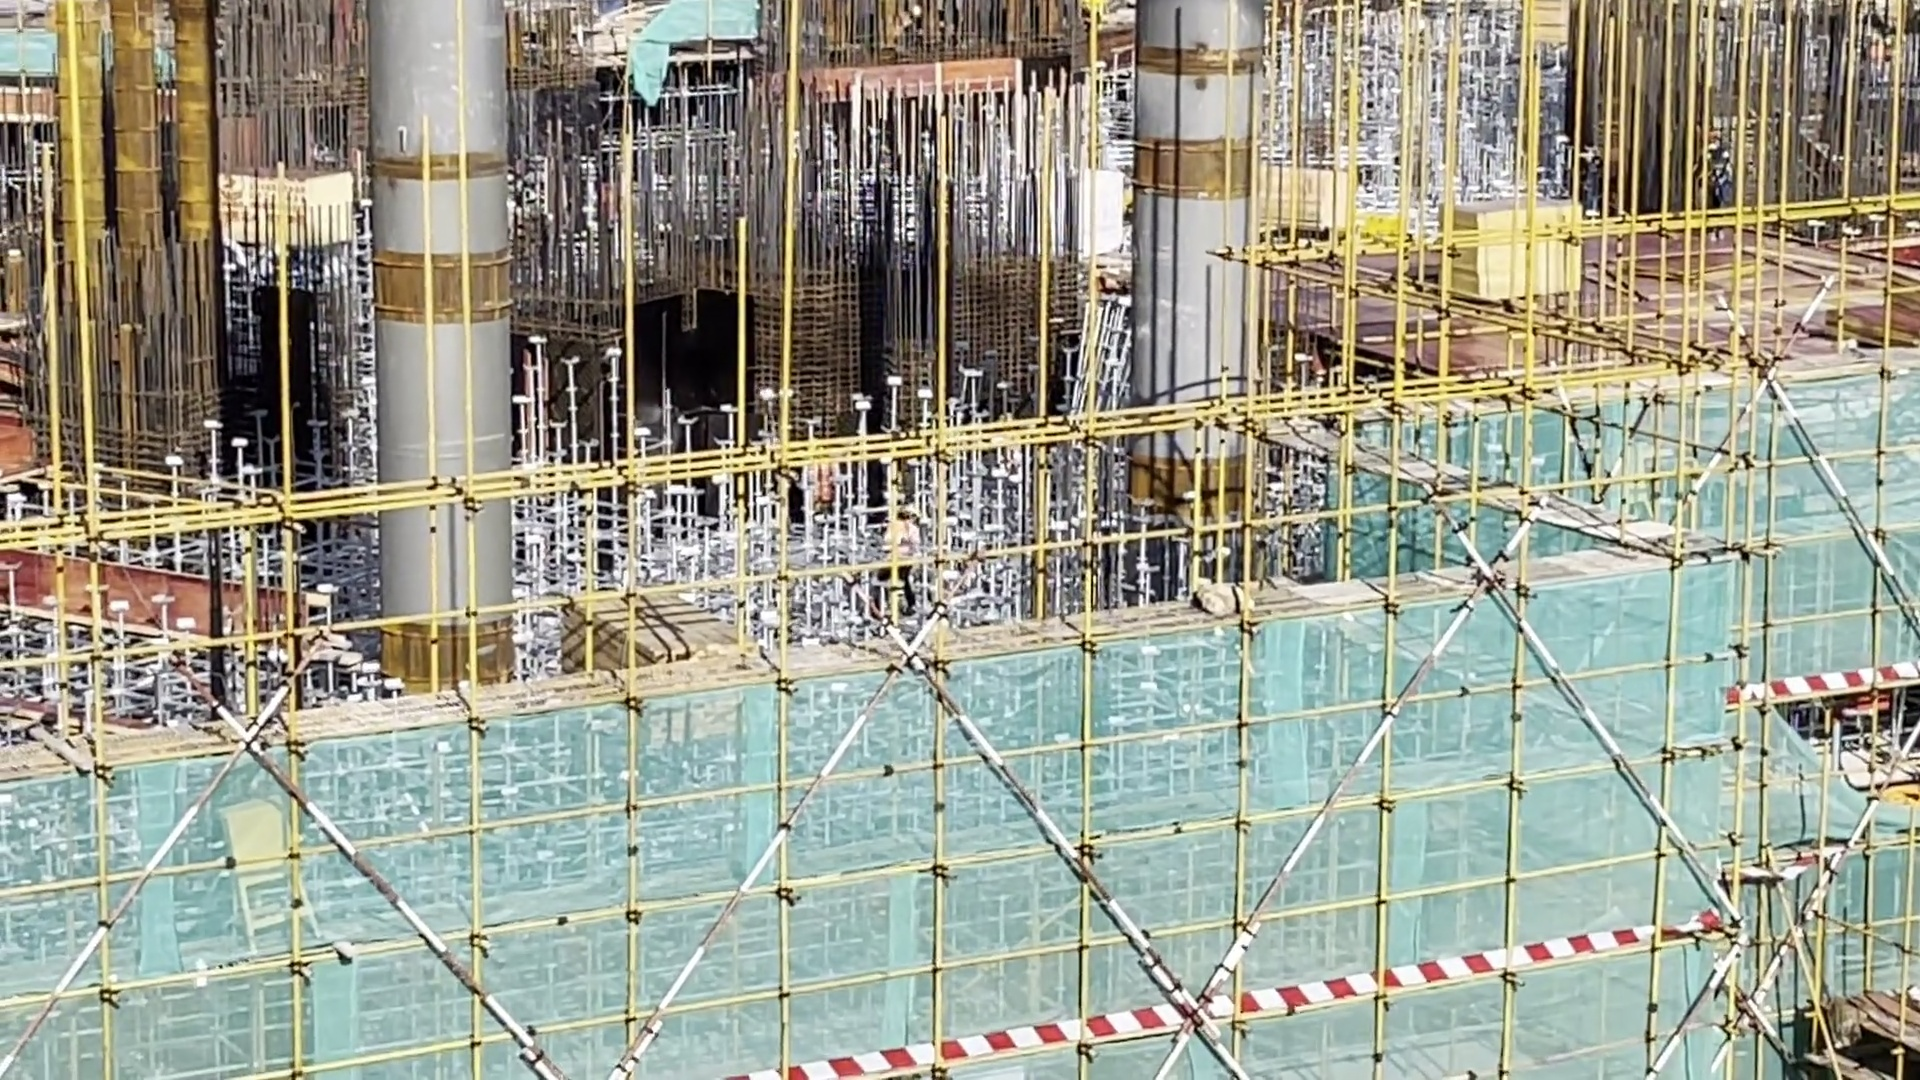ebox: (214, 797, 325, 917)
person: (879, 500, 935, 619), (1697, 128, 1733, 219)
vest: (884, 517, 914, 562), (1703, 145, 1733, 187)
